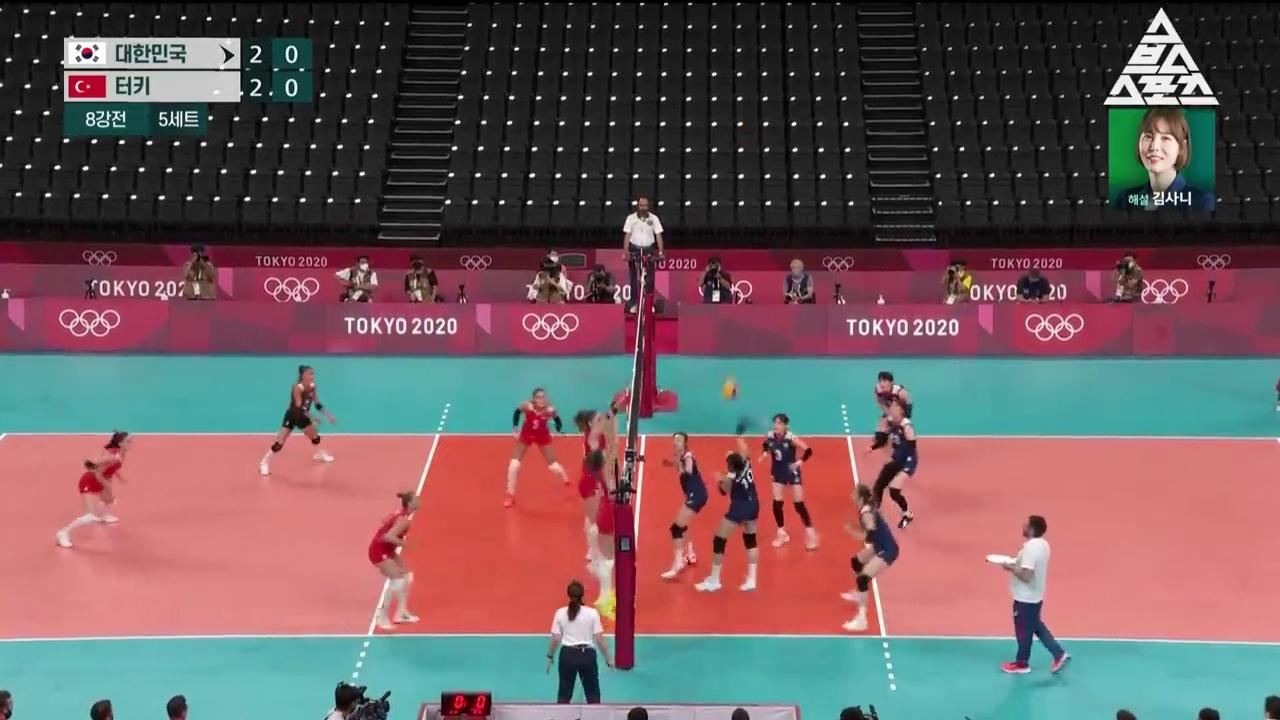ball: (722, 380, 738, 400)
player: (695, 415, 760, 593), (577, 389, 630, 579), (504, 388, 576, 507), (58, 432, 132, 547), (260, 365, 337, 475), (841, 486, 899, 630), (759, 413, 819, 549), (862, 399, 918, 530), (369, 491, 419, 631), (587, 404, 619, 622), (661, 431, 708, 579), (875, 372, 910, 462)
referee: (546, 580, 615, 703), (622, 196, 663, 315)
